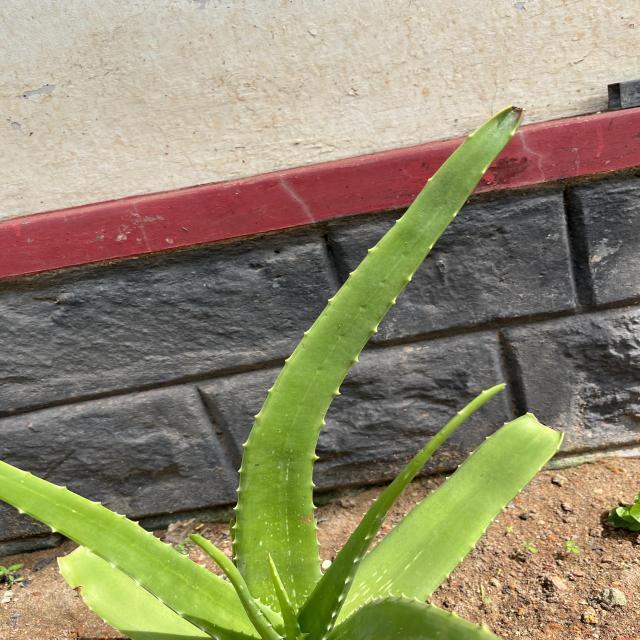Aloe vera: (225, 99, 533, 608)
